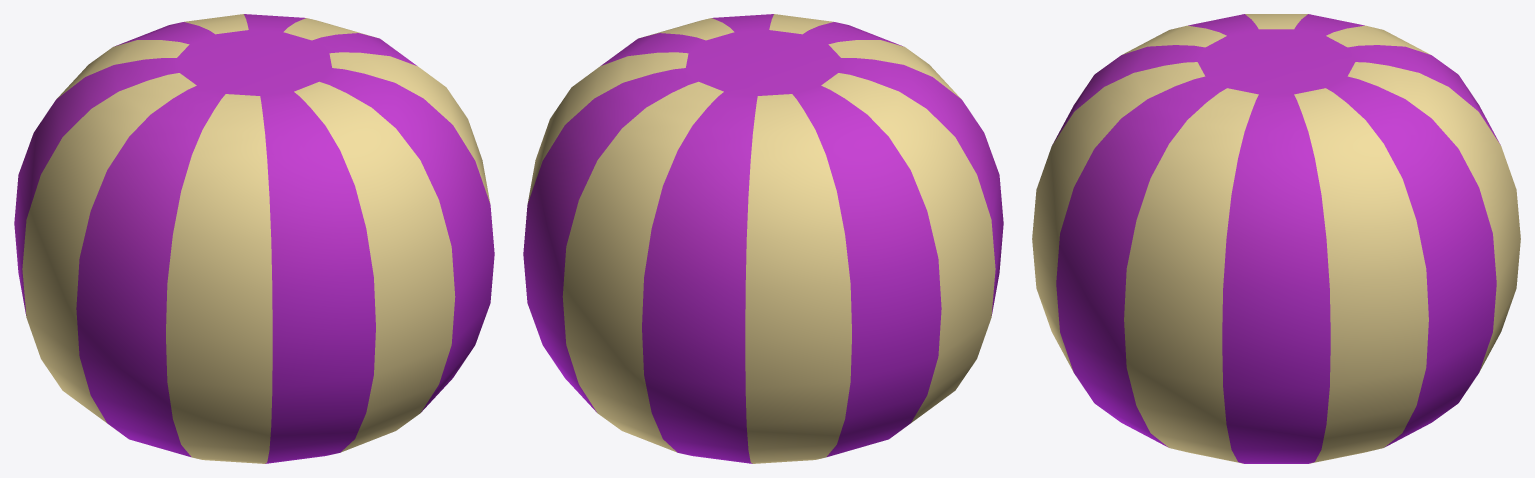
Rendered from OBS0110246.fbx.
The picture shows the model from 3 angles, left to right: view 1: azimuth 30°, elevation 25°; view 2: azimuth 150°, elevation 25°; view 3: azimuth 270°, elevation 25°; orthographic projection.
Visible parts, largest first — view 1: smOBS0110246; view 2: smOBS0110246; view 3: smOBS0110246.
Boxes of the visible parts, x1=… form: smOBS0110246: x1=14, y1=14, x2=494, y2=463; smOBS0110246: x1=523, y1=14, x2=1003, y2=463; smOBS0110246: x1=1032, y1=14, x2=1520, y2=463.
Size of the model in its own units: 74.62 by 61.17 by 76.54.
Materials: 1 (1 with a texture image).
